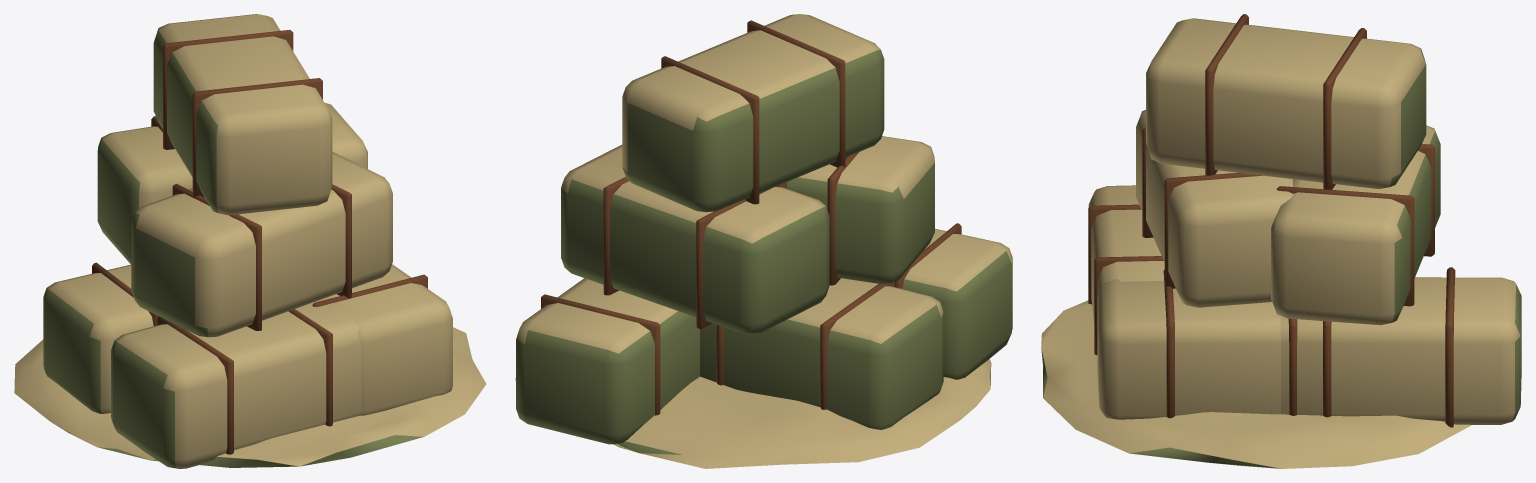
The model's file is HayStack.fbx.
3 views of the same model, side by side, from view 1: azimuth 30°, elevation 25°; view 2: azimuth 150°, elevation 25°; view 3: azimuth 270°, elevation 25° (orthographic). The views are drawn at different scales.
Parts seen in each view (by area): view 1: HayStack; view 2: HayStack; view 3: HayStack.
Part boxes in pixels (<box>): HayStack: <box>14,14,486,468</box>; HayStack: <box>515,14,1012,468</box>; HayStack: <box>1041,14,1521,468</box>.
Size of the model in its own units: 1.71 by 1.28 by 1.73.
1 material, 1 textured.
